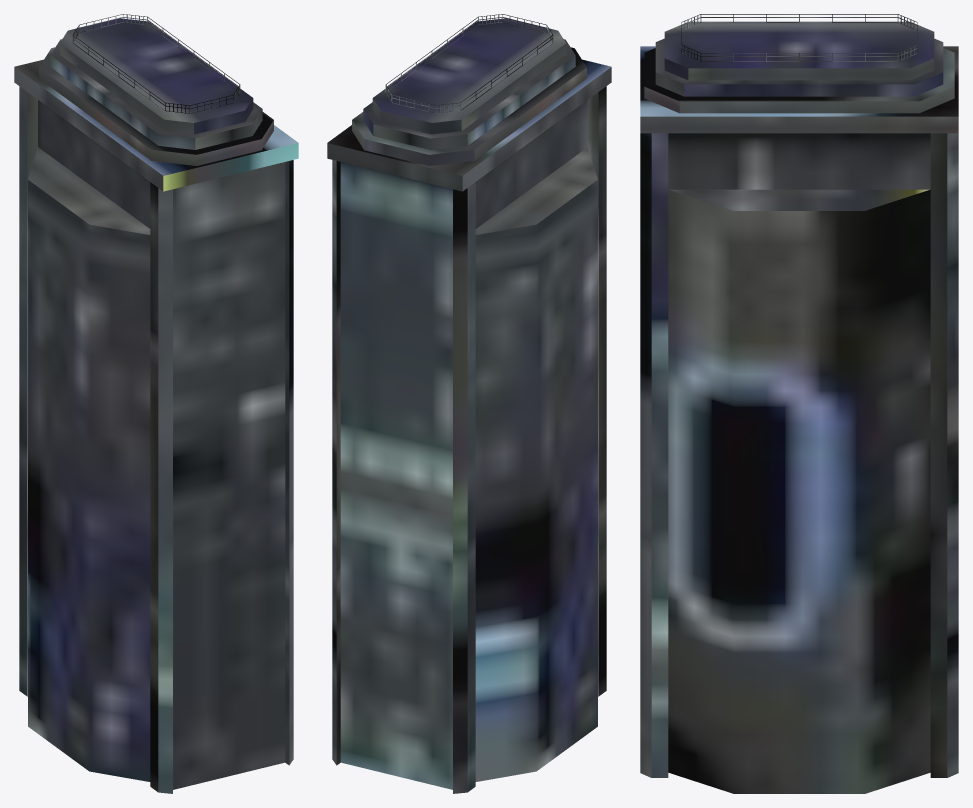
File: night-8.glb
3 views of the same model, side by side, from view 1: azimuth 30°, elevation 25°; view 2: azimuth 150°, elevation 25°; view 3: azimuth 270°, elevation 25° (orthographic). The views are drawn at different scales.
Bounding box in the file's own units: 2.55 × 8.26 × 3.36.
1 material, 1 textured.
